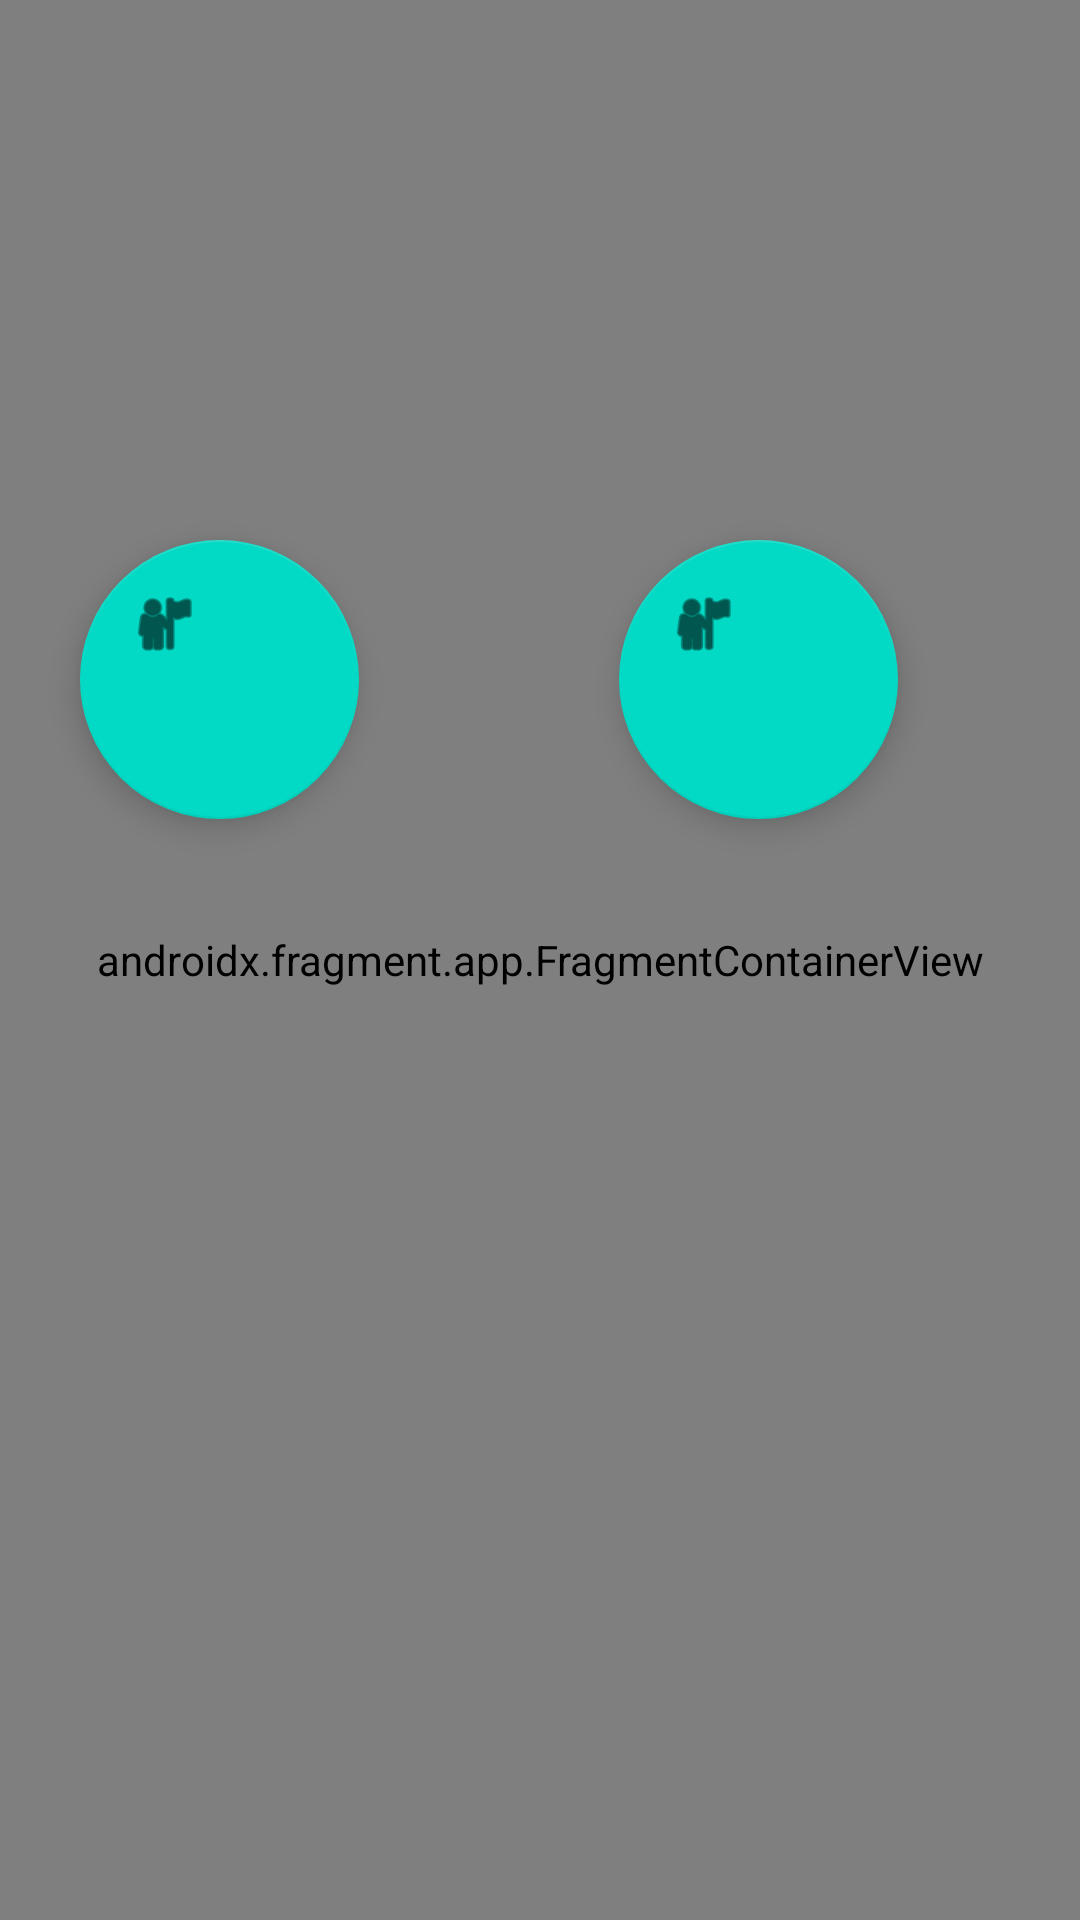

Named icons in this screenshot (1080px×1920px) and their bounding boxes, rect(x1, y1, x2, y2):
myplaces: rect(80, 540, 359, 819), rect(619, 540, 898, 819)
